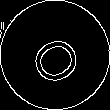O_NE: (22, 24, 88, 86)
